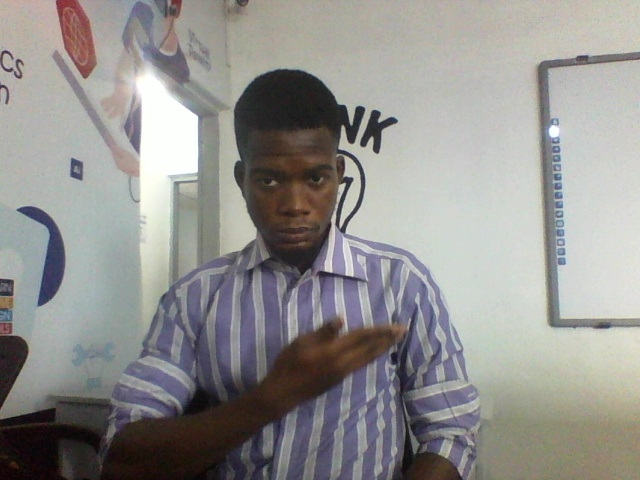you_are_welcome: (135, 319, 409, 455)
